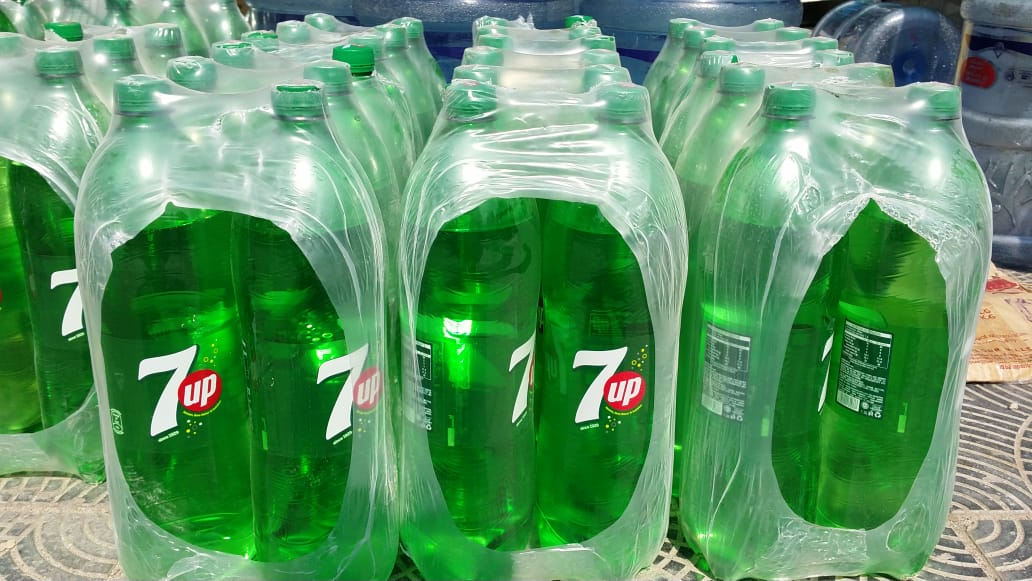7up: (135, 343, 226, 442), (311, 343, 384, 448), (572, 342, 648, 436), (50, 268, 87, 335), (509, 332, 535, 426), (820, 334, 832, 411)
